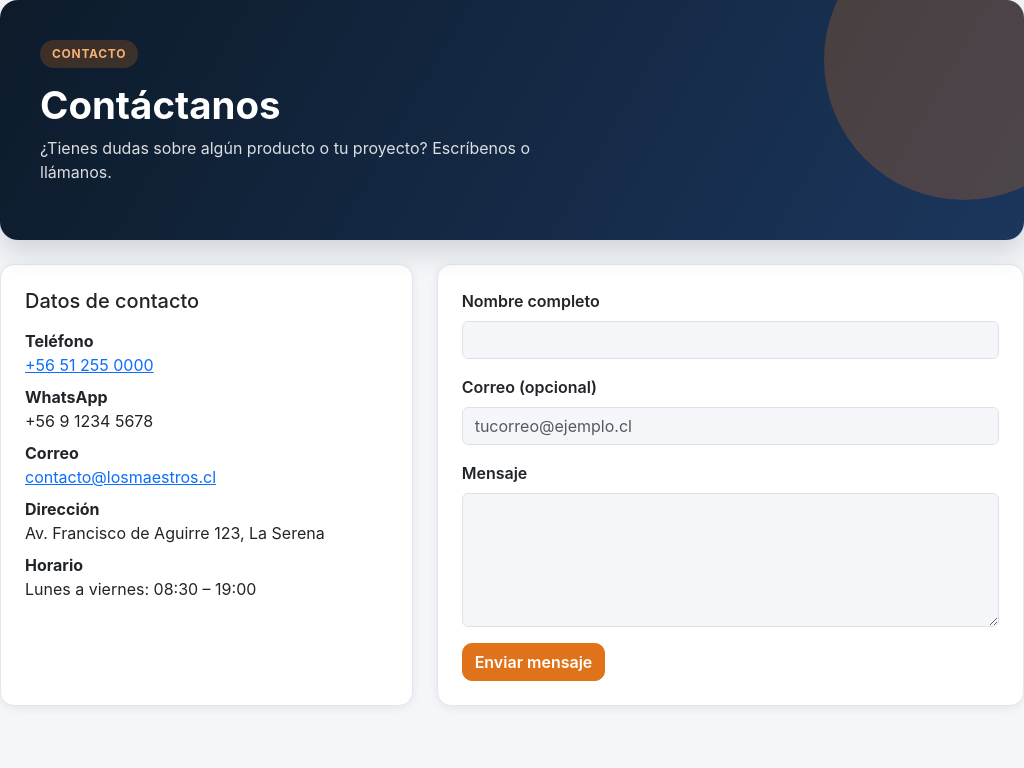
Test: Contacto (formulario controlado + validación) › CONDICIONAL: un correo inválido muestra error y no envía
Type "Juan Pérez" into the field labelled "Nombre completo" at point(730, 340), box [462,322,999,360]
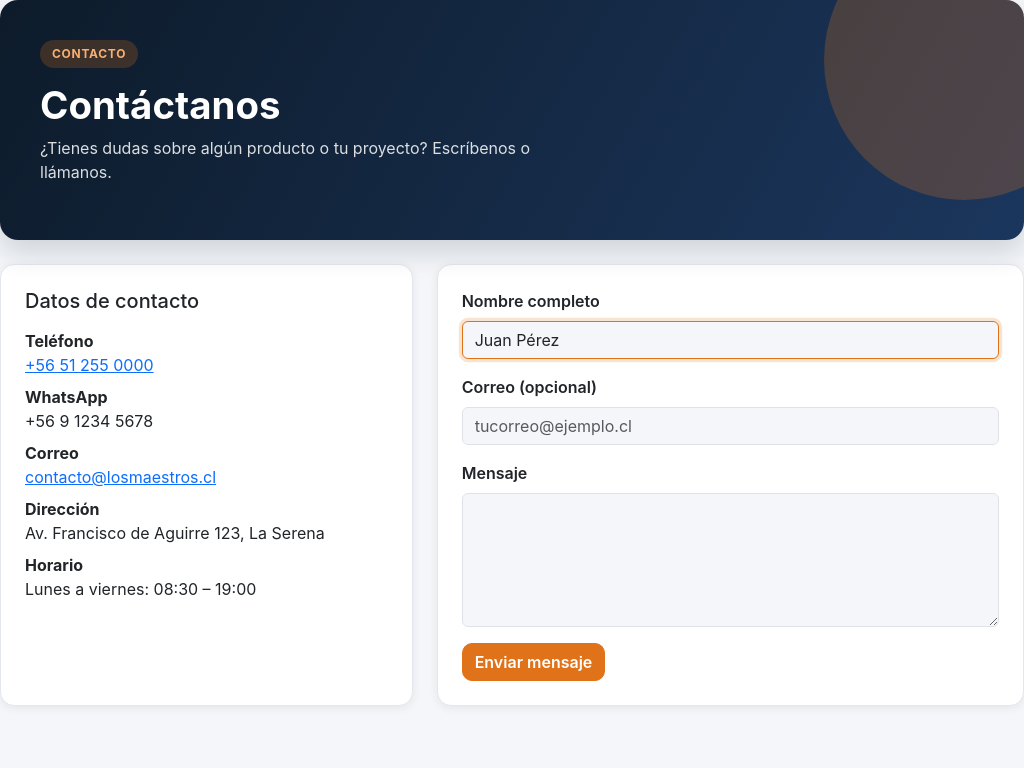
Type "juan@correo" into the field labelled "Correo (opcional)" at point(730, 426), box [462,408,999,446]
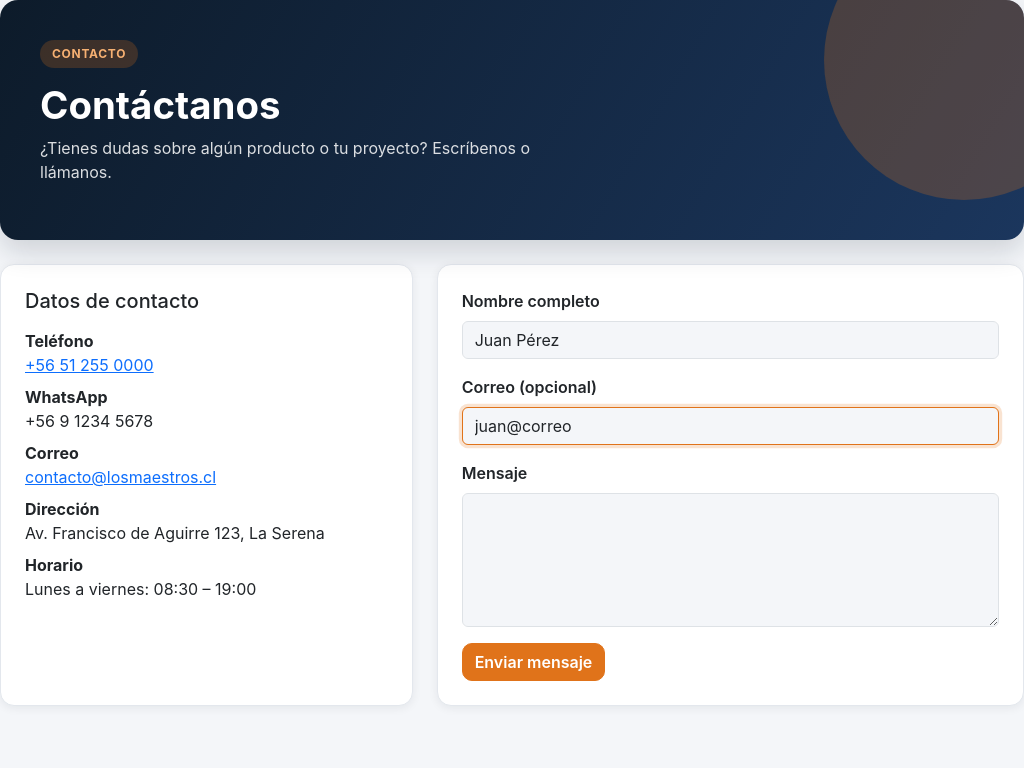
Type "Hola" into the text box labelled "Mensaje" at point(730, 560), box [462,494,999,628]
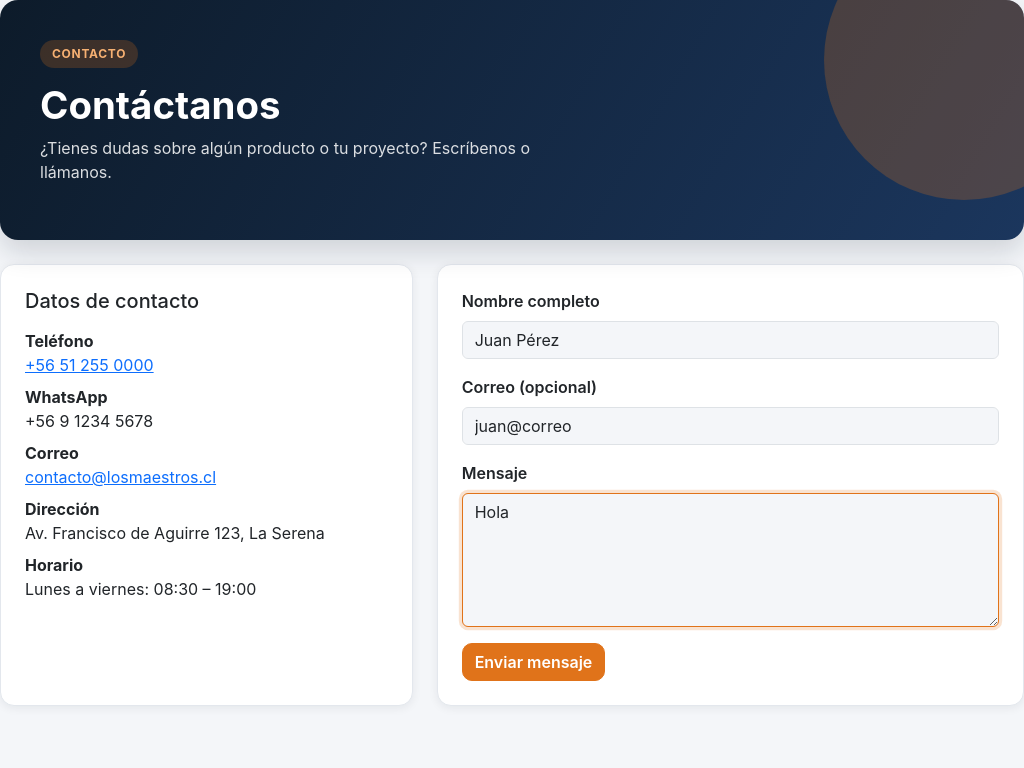
Click the button "Enviar mensaje" at point(534, 662), box [462,644,605,682]
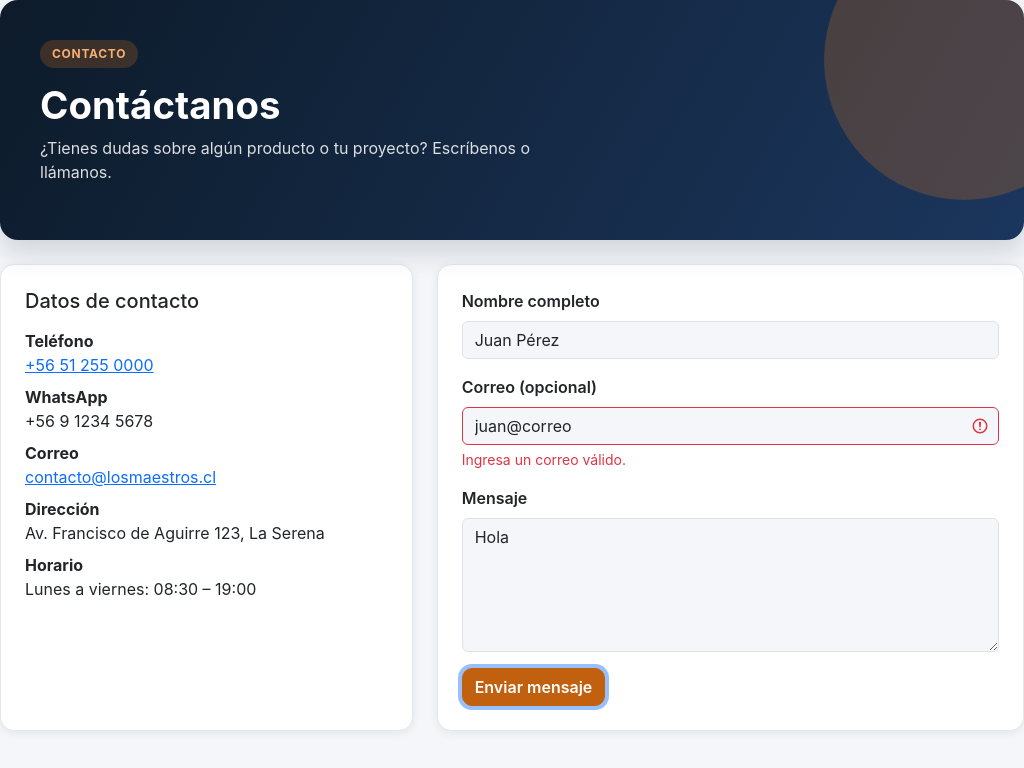
Expected: the text "Ingresa un correo válido." is shown, [462,452,626,468]
